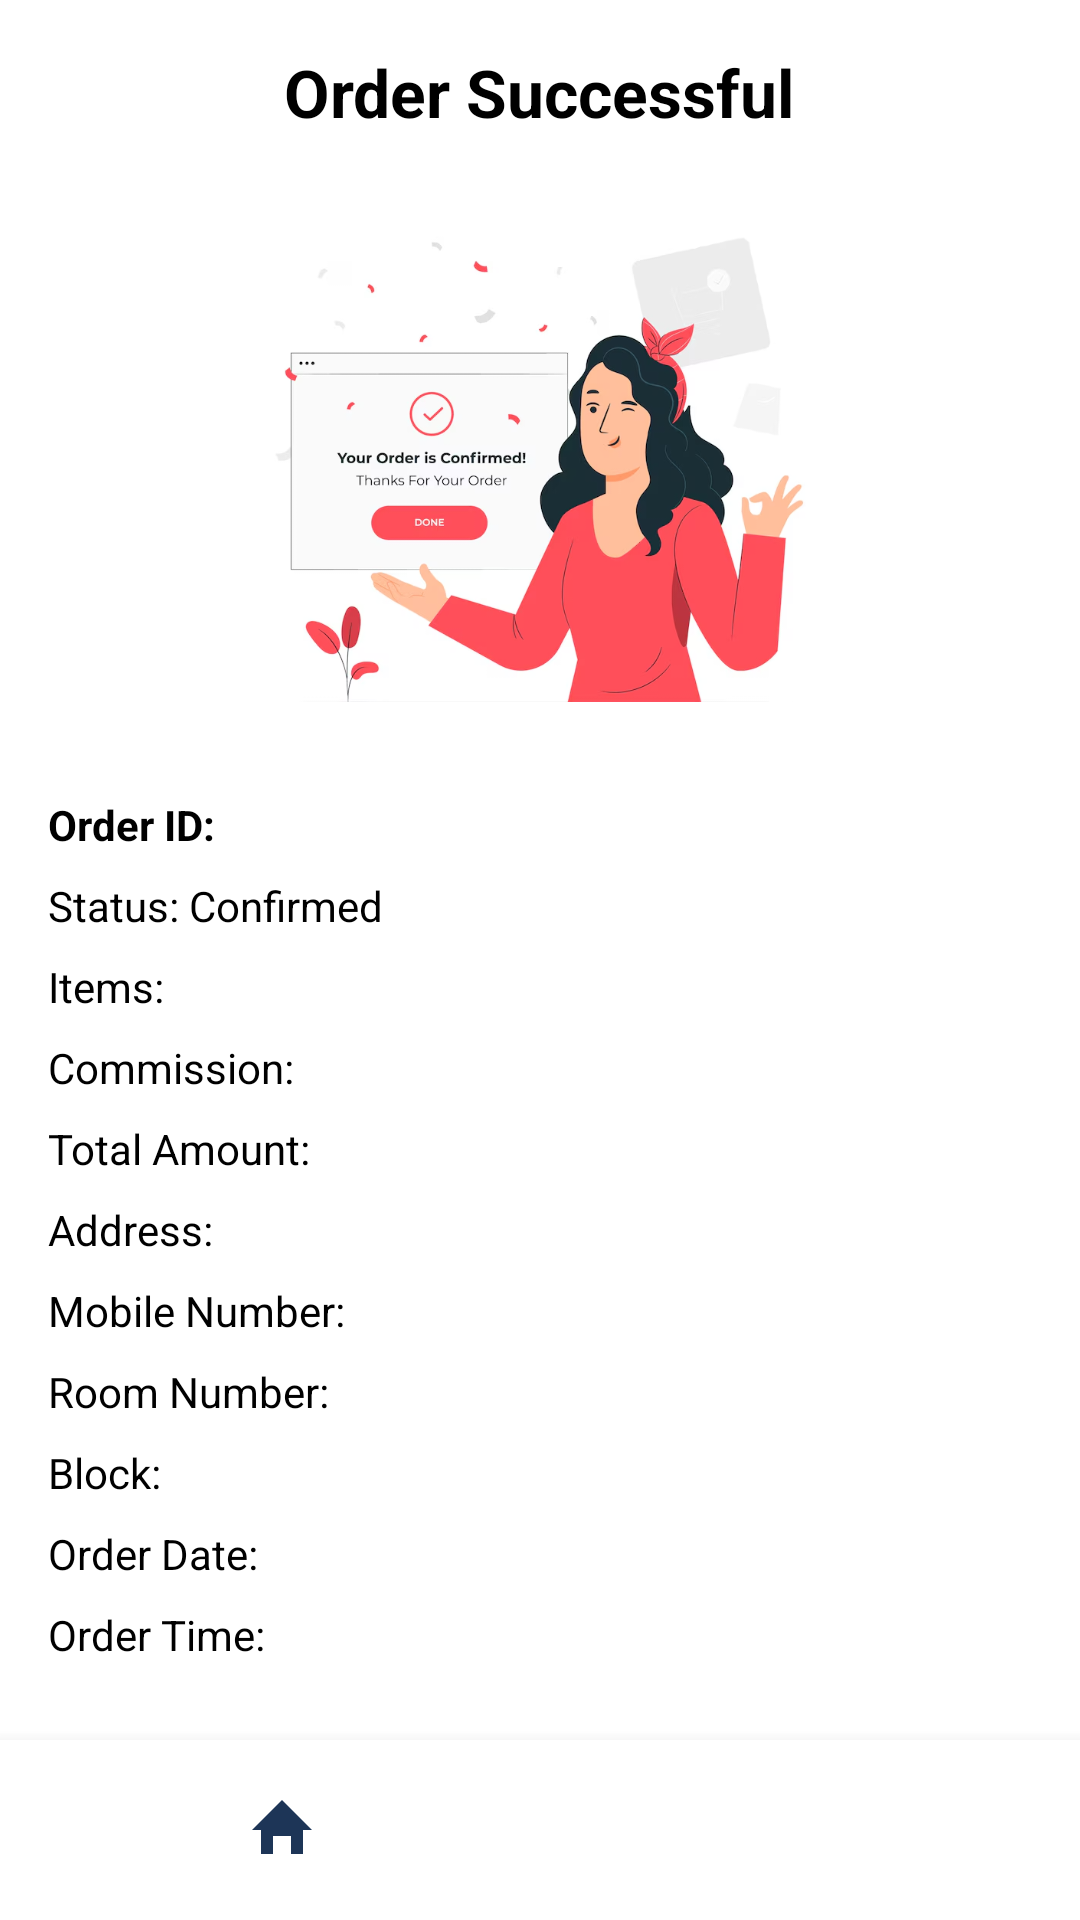

Screen size 1080*1920. Icon name, then its box in pixels as (x1, y1, x2, y2):
Home: (252, 1800, 312, 1854)
